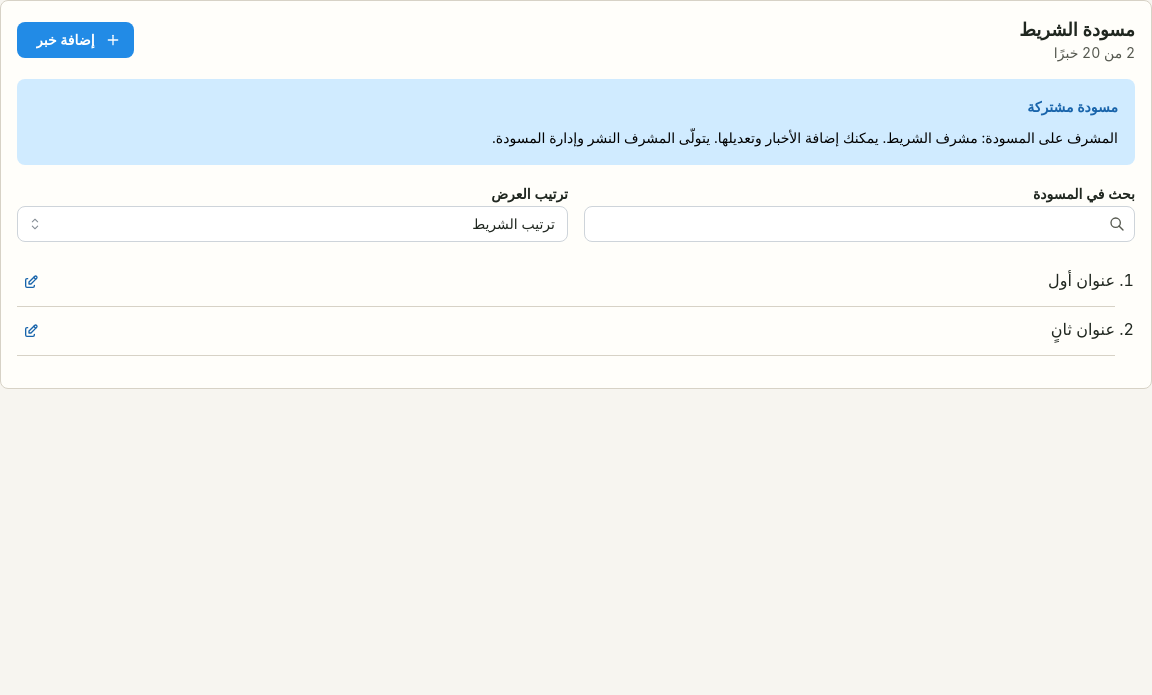
keeps my text and requires a decision after another editor changes the same headline
Click the button named "تعديل الخبر 1" at (31, 282), box [17, 268, 45, 296]
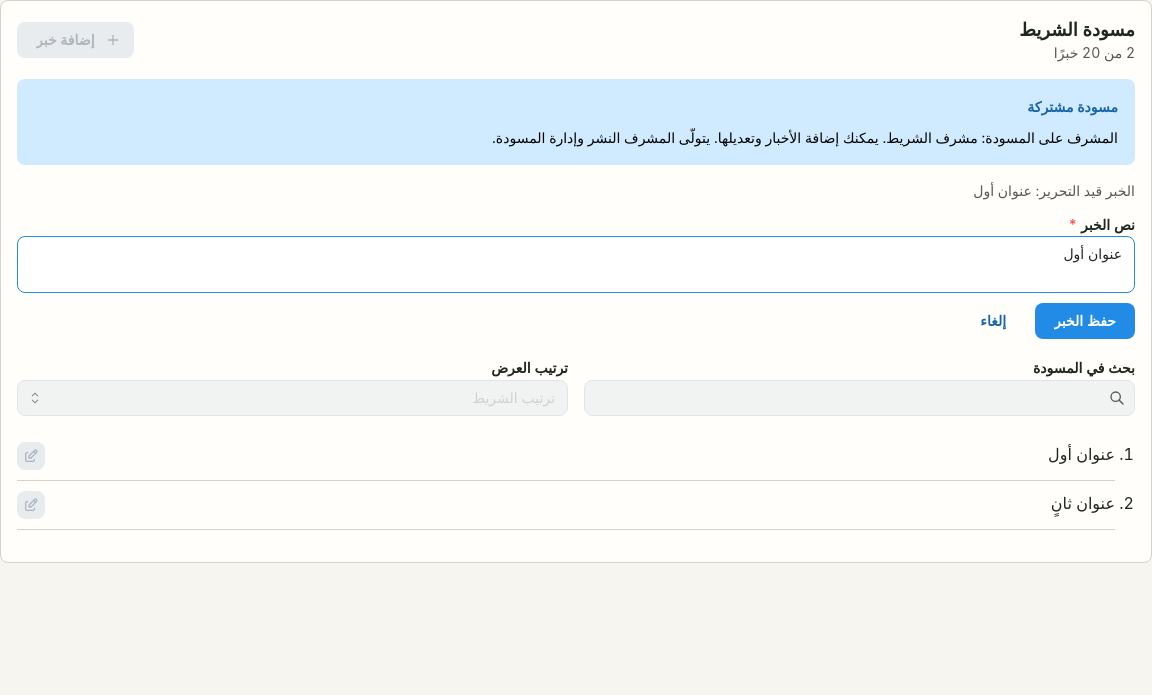
Replace the text in the text box labelled "نص الخبر" with "النص الذي أكتبُه" at (576, 265), box [17, 236, 1135, 294]
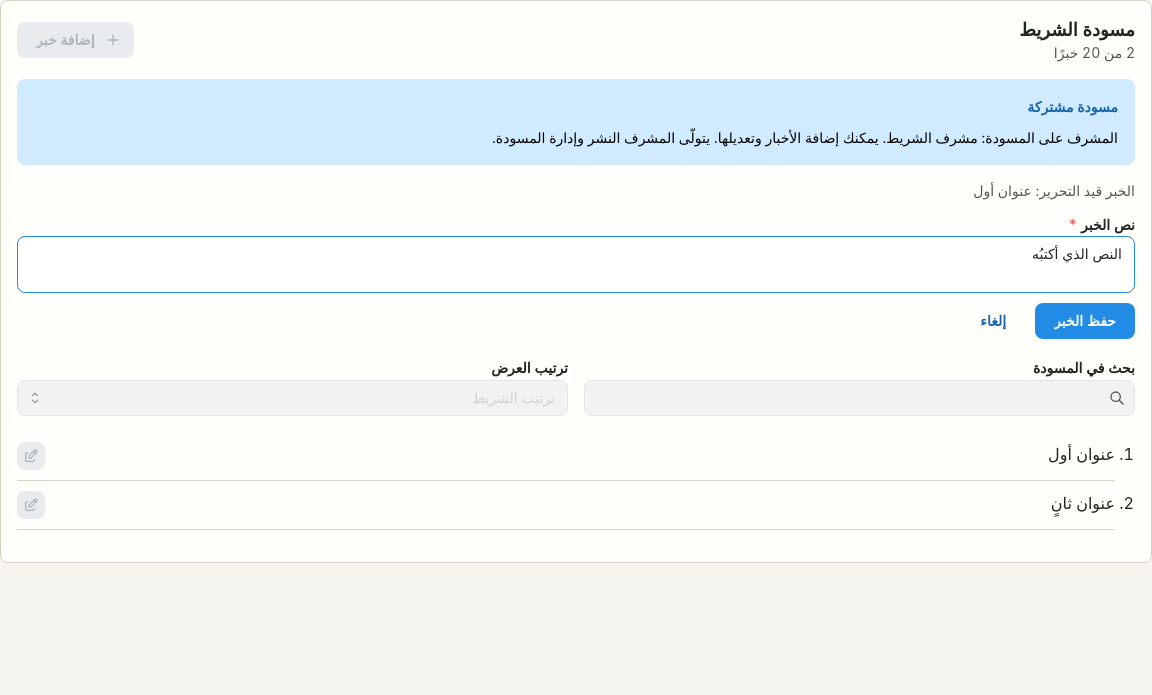
Click the button "حفظ الخبر" at (1085, 322), box [1035, 304, 1135, 340]
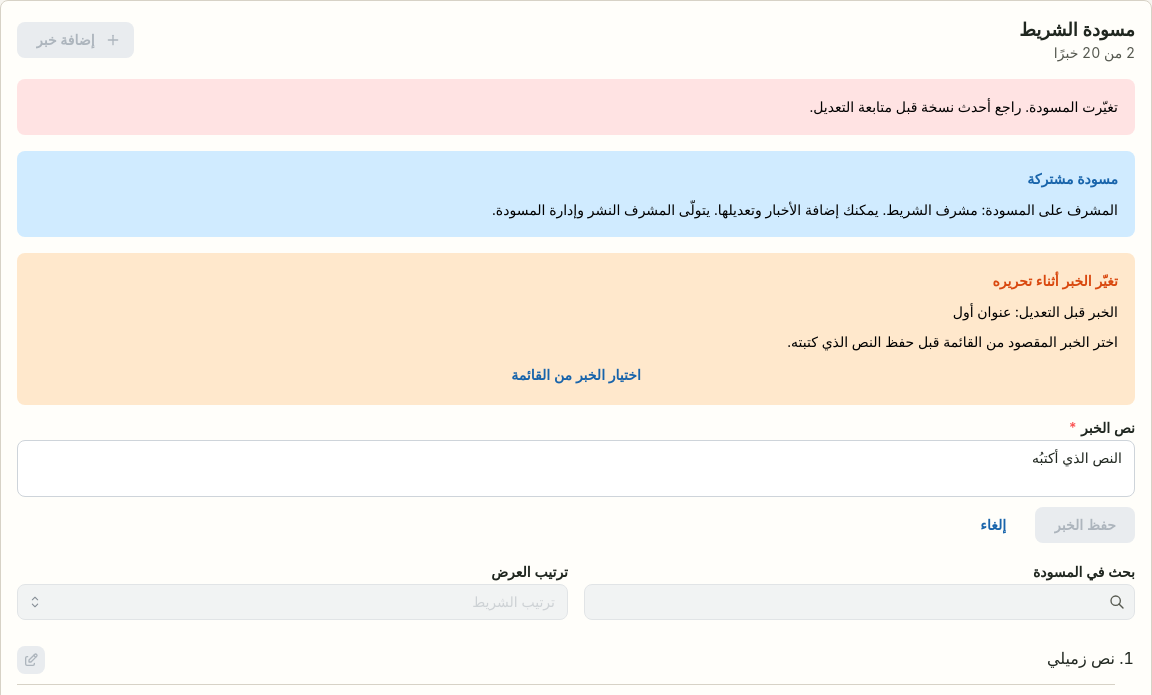
Expected: the text "تغيّر الخبر أثناء تحريره" is shown, [992, 270, 1118, 292]
Expected: the text "الخبر قبل التعديل: عنوان أول" is shown, [953, 303, 1118, 320]
Expected: the button "حفظ الخبر" is disabled, [1035, 507, 1135, 543]
Click the button "اختيار الخبر من القائمة" at (576, 375), box [34, 362, 1118, 388]
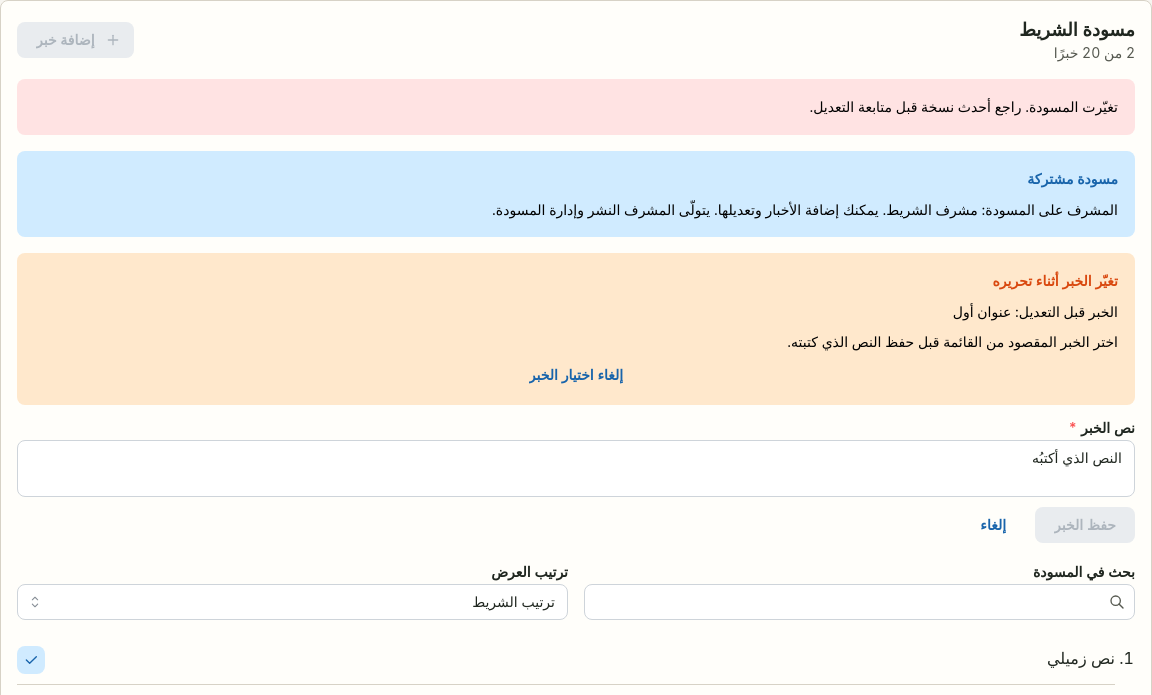
Click the button named "اختيار الخبر 1 لهذا التعديل" at (31, 660), box [17, 646, 45, 674]
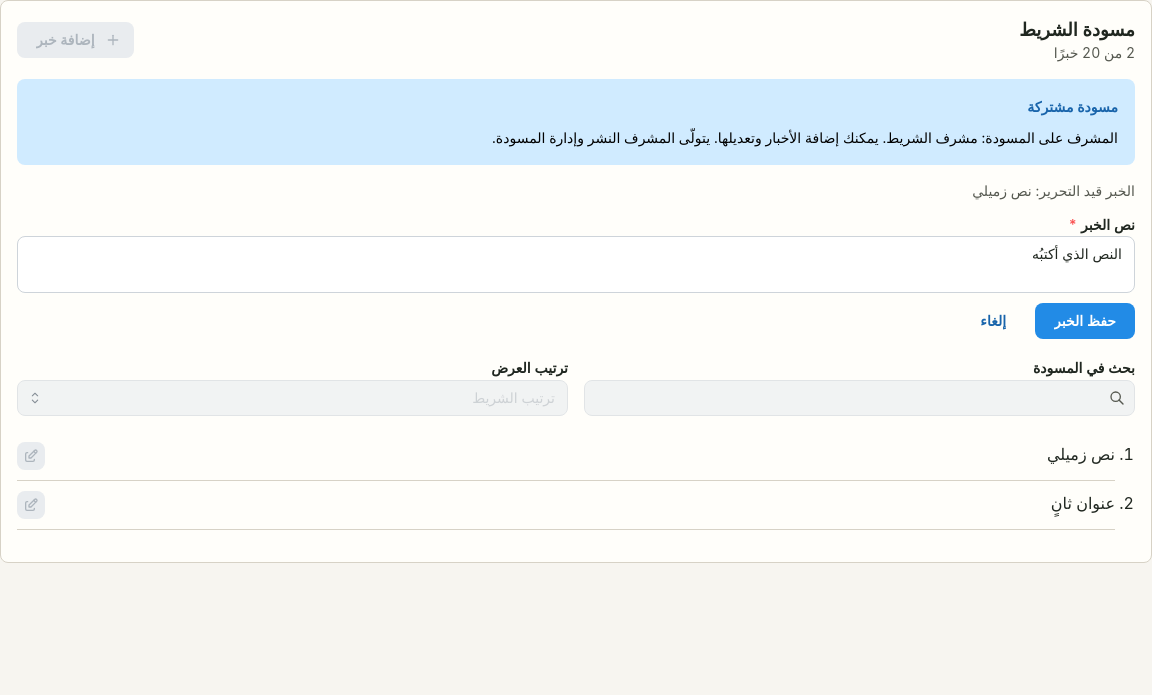
Click the button "حفظ الخبر" at (1085, 322), box [1035, 304, 1135, 340]
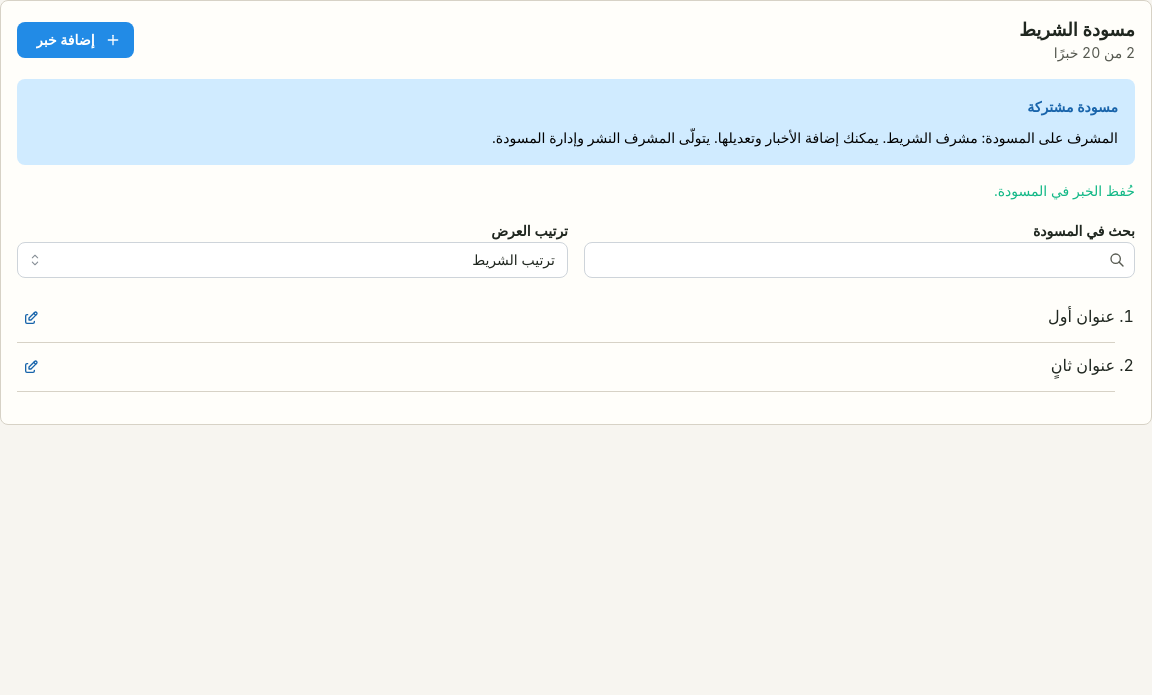
Expected: the text "حُفظ الخبر في المسودة." is shown, [994, 182, 1135, 199]
